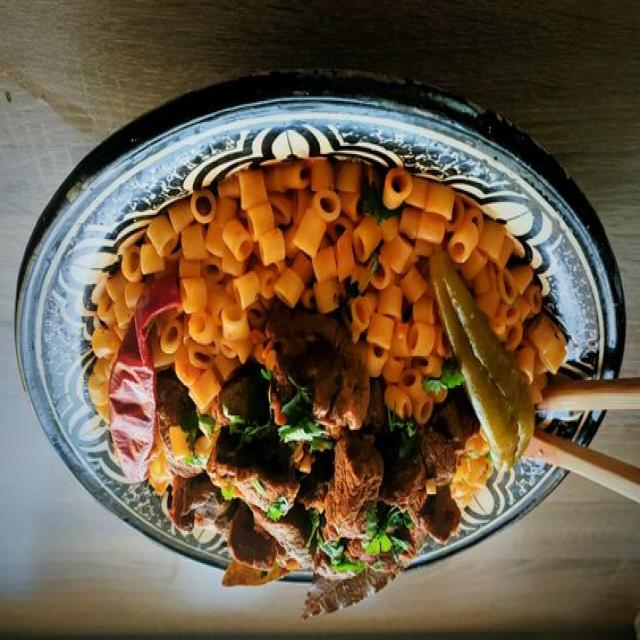Pasta: (38, 140, 545, 599)
